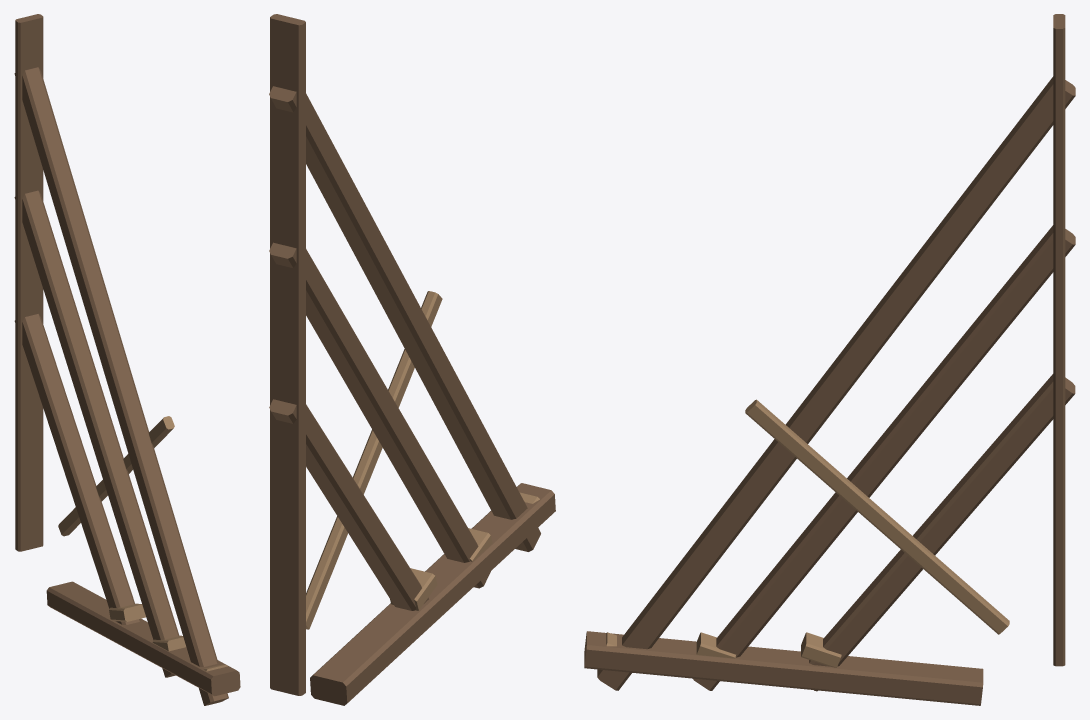
Rendered from shoring.glb.
3 views of the same model, side by side, from view 1: azimuth 30°, elevation 25°; view 2: azimuth 150°, elevation 25°; view 3: azimuth 270°, elevation 25° (orthographic). The views are drawn at different scales.
Visible parts, largest first — view 1: shoring; view 2: shoring; view 3: shoring.
Boxes of the visible parts, left/top/right/bottom form: shoring: left=14, top=14, right=240, bottom=705; shoring: left=269, top=14, right=555, bottom=705; shoring: left=584, top=14, right=1075, bottom=705.
Bounding box in the file's own units: 0.36 × 6.38 × 4.19.
